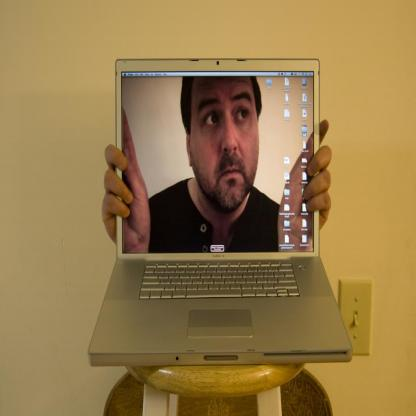board: (95, 82, 352, 406)
